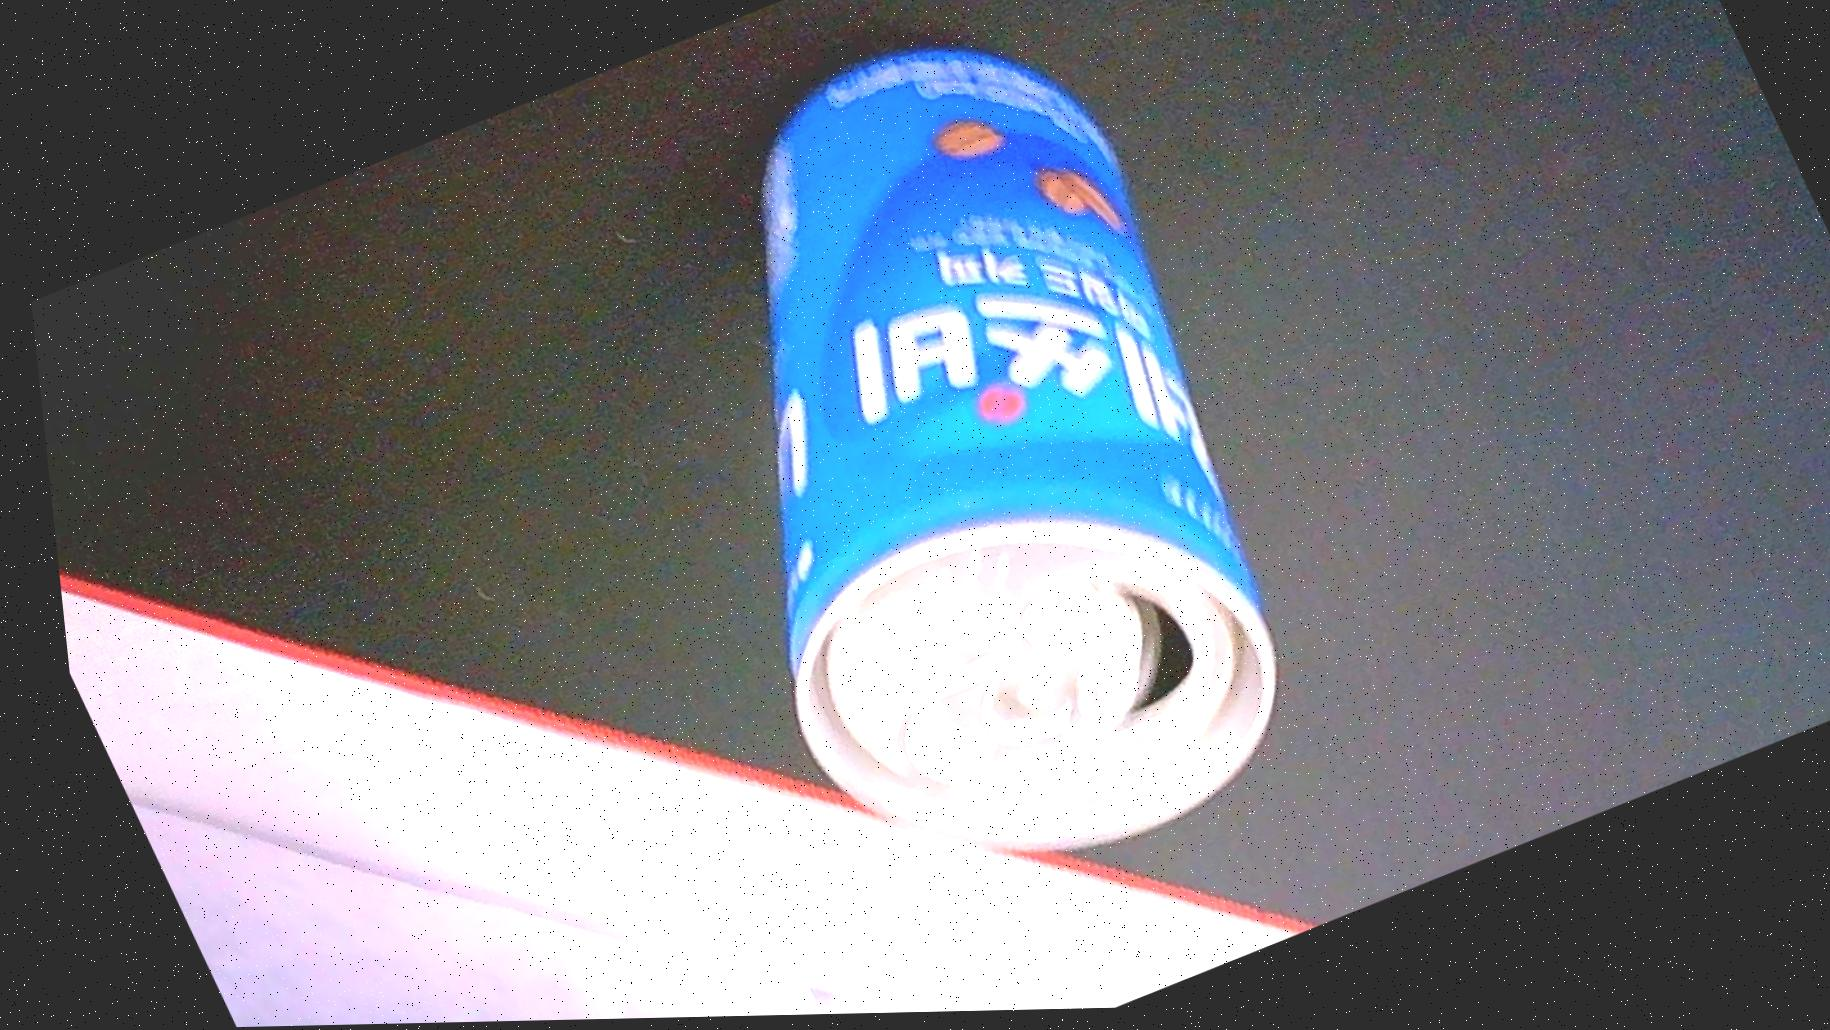letsbe: (520, 0, 1388, 942)
